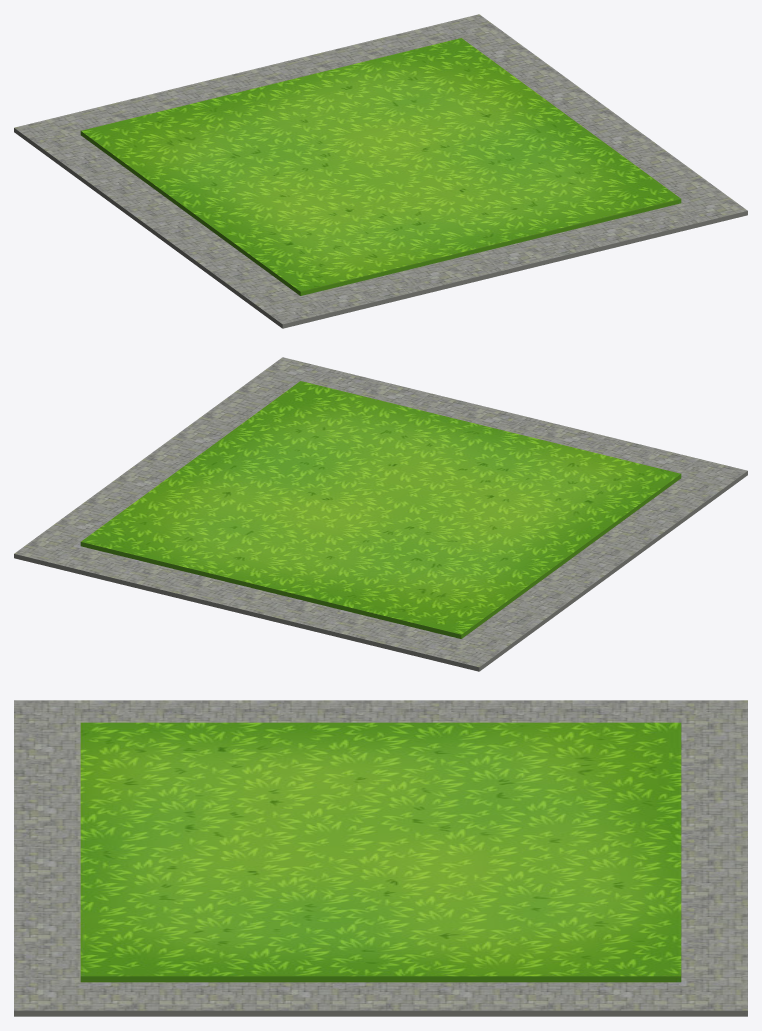
3 views of the same model, one above another, from view 1: azimuth 30°, elevation 25°; view 2: azimuth 150°, elevation 25°; view 3: azimuth 270°, elevation 25° (orthographic). The views are drawn at different scales.
Parts seen in each view (by area): view 1: 1x; view 2: 1x; view 3: 1x.
Part boxes in pixels (x1,y1,x2,y2): 1x: (14,14,747,328); 1x: (14,357,747,671); 1x: (14,700,747,1016).
Size of the model in its own units: 11 by 0.2 by 11.
1 material, 1 textured.
